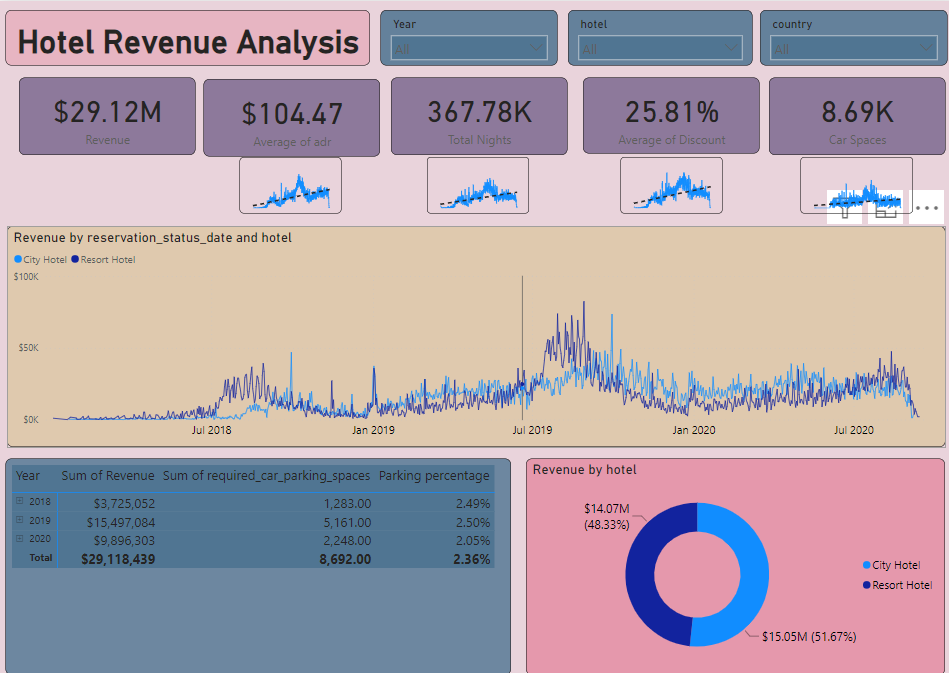

The page's visual inventory and layout, read from the dashboard file:
{"tool":"powerbi","page":{"name":"Page 1","canvas":[1280,920],"ordinal":0},"visuals":[{"type":"card","fields":{"Values":["Sum(Query1.Revenue)"]},"box":[28.4,101.5,235,103.6],"z":1000},{"type":"card","fields":{"Values":["Avg(Query1.adr)"]},"box":[274.2,103.6,235,103.6],"z":2000},{"type":"card","fields":{"Values":["Query1.Total Nights"]},"box":[524,101.5,235,103.6],"z":3000},{"type":"card","fields":{"Values":["Avg(Query1.Discount)"]},"box":[779.9,101.5,235.6,101.5],"z":4000},{"type":"lineChart","title":"Revenue by reservation_status_date and hotel","fields":{"Category":["Query1.reservation_status_date"],"Y":["Sum(Query1.Revenue)"],"Series":["Query1.hotel"]},"box":[12.2,300.6,1251,294.5],"z":5000},{"type":"slicer","fields":{"Values":["Query1.country"]},"box":[1016,12,250,74],"z":6000},{"type":"slicer","fields":{"Values":["Query1.hotel"]},"box":[760,12,246,74],"z":7000},{"type":"lineChart","fields":{"Category":["Query1.reservation_status_date"],"Y":["Sum(Query1.adr)"]},"box":[322.9,207.2,136.1,75.1],"z":8000},{"type":"lineChart","fields":{"Category":["Query1.reservation_status_date"],"Y":["Query1.Total Nights"]},"box":[572.7,207.2,136.1,75.1],"z":9000},{"type":"lineChart","fields":{"Category":["Query1.reservation_status_date"],"Y":["Sum(Query1.Discount)"]},"box":[830.6,207.2,136.1,75.1],"z":10000},{"type":"card","fields":{"Values":["Sum(Query1.required_car_parking_spaces)"]},"box":[1027.6,101.5,235,103.6],"z":11000},{"type":"lineChart","fields":{"Category":["Query1.reservation_status_date"],"Y":["Sum(Query1.required_car_parking_spaces)"]},"box":[1070.3,207.2,150.3,75.1],"z":12000},{"type":"donutChart","title":" Revenue by hotel","fields":{"Category":["Query1.hotel"],"Y":["Sum(Query1.Revenue)"]},"box":[704.7,609.3,558.5,288.4],"z":13000},{"type":"pivotTable","fields":{"Rows":["Query1.Year","Query1.hotel"],"Values":["Sum(Query1.Revenue)","Sum(Query1.required_car_parking_spaces)","Query1.Parking percentage"]},"box":[10.2,609.3,674.3,288.4],"z":14000},{"type":"card","fields":{"Values":["Query1.Report Title"]},"box":[10,12,486,74],"z":14001},{"type":"slicer","fields":{"Values":["Query1.reservation_status_date Hierarchy.Year"]},"box":[510,12,236,74],"z":14002}]}

Visuals, with their boxes in screenshot pixels (x1, y1, x2, y2), scaled from the page's 1280x920 canvas onto the 949x673 screenshot:
card - Sum(Query1.Revenue): crop(21, 74, 195, 150)
card - Avg(Query1.adr): crop(203, 76, 378, 152)
card - Query1.Total Nights: crop(388, 74, 563, 150)
card - Avg(Query1.Discount): crop(578, 74, 753, 148)
"Revenue by reservation_status_date and hotel" lineChart: crop(9, 220, 937, 435)
slicer - Query1.country: crop(753, 9, 939, 63)
slicer - Query1.hotel: crop(563, 9, 746, 63)
lineChart - Query1.reservation_status_date x Sum(Query1.adr): crop(239, 152, 340, 207)
lineChart - Query1.reservation_status_date x Query1.Total Nights: crop(425, 152, 526, 207)
lineChart - Query1.reservation_status_date x Sum(Query1.Discount): crop(616, 152, 717, 207)
card - Sum(Query1.required_car_parking_spaces): crop(762, 74, 936, 150)
lineChart - Query1.reservation_status_date x Sum(Query1.required_car_parking_spaces): crop(794, 152, 905, 207)
" Revenue by hotel" donutChart: crop(522, 446, 937, 657)
pivotTable - Query1.Year x Query1.hotel: crop(8, 446, 507, 657)
card - Query1.Report Title: crop(7, 9, 368, 63)
slicer - Query1.reservation_status_date Hierarchy.Year: crop(378, 9, 553, 63)
